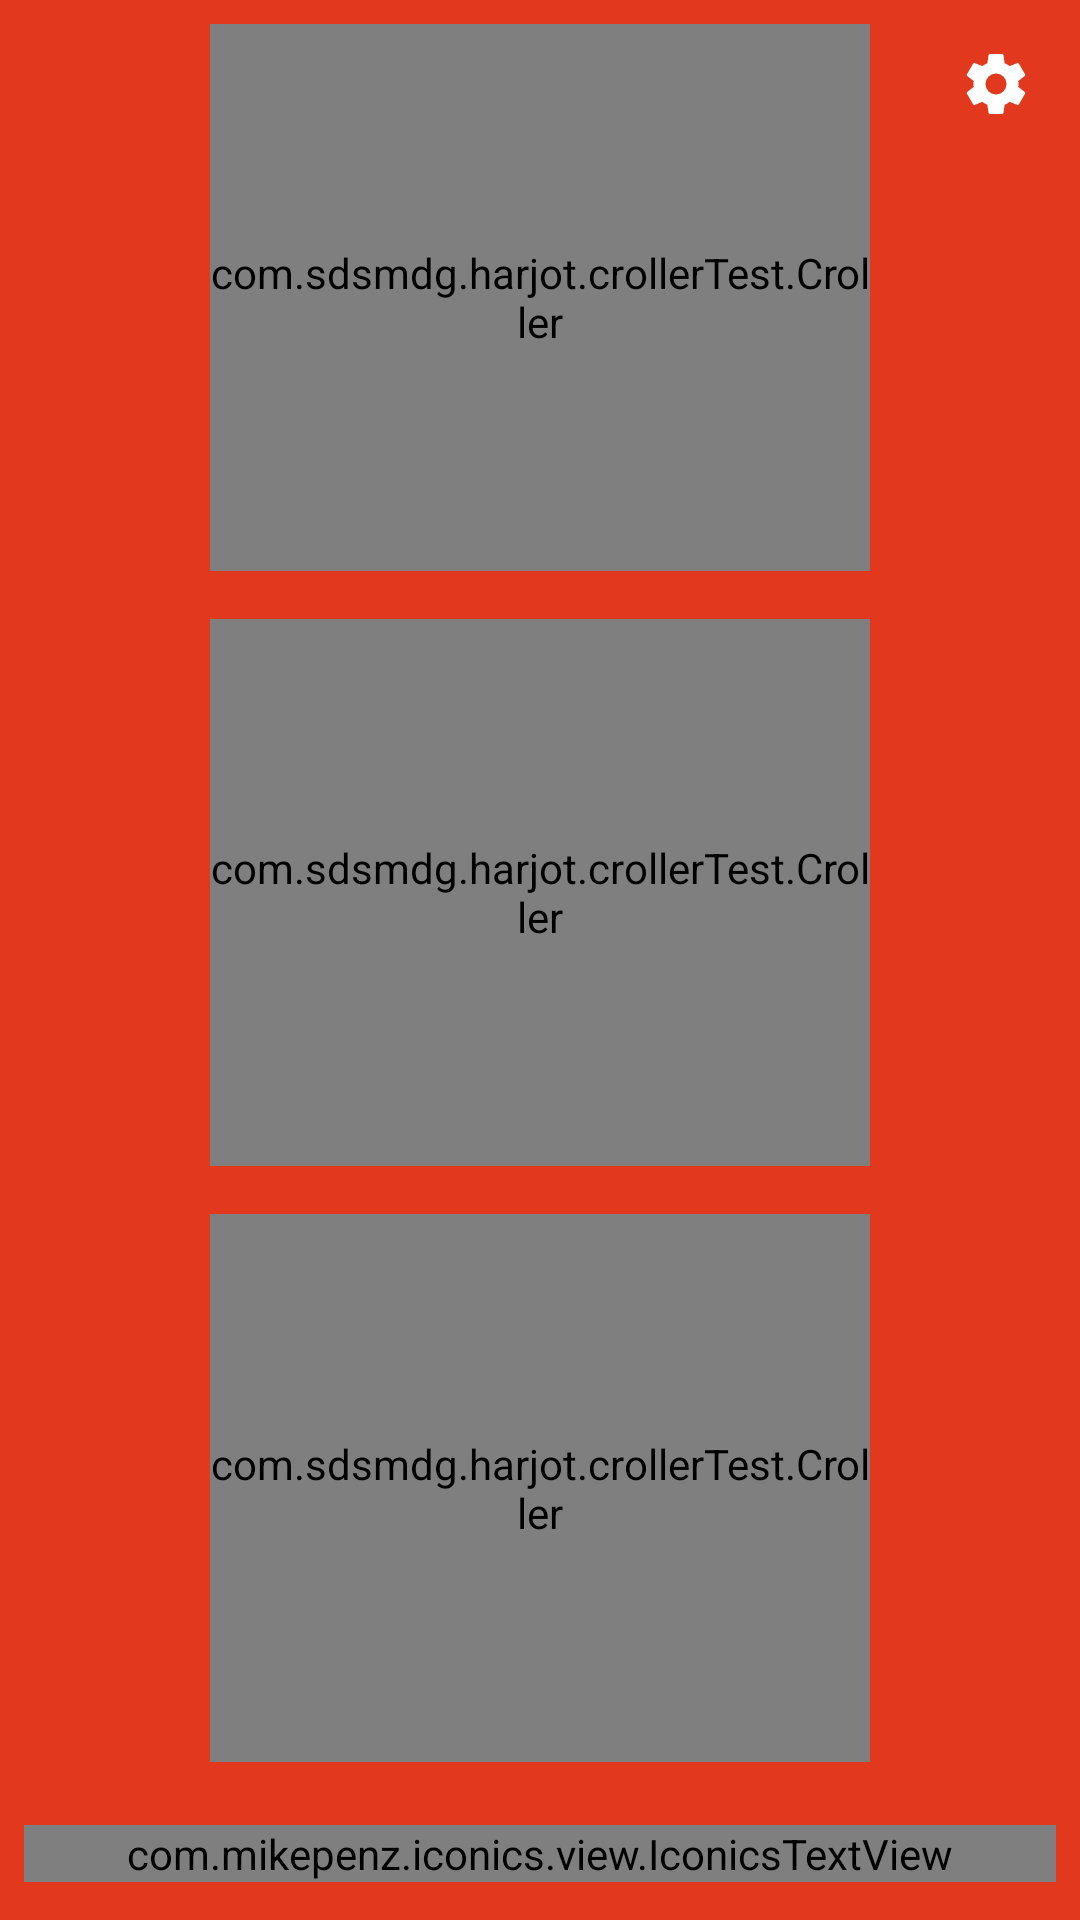

Where icons sit on this 1080×1920 app screen, as [x1, y1, x2, y2]:
settings: [966, 54, 1025, 114]
